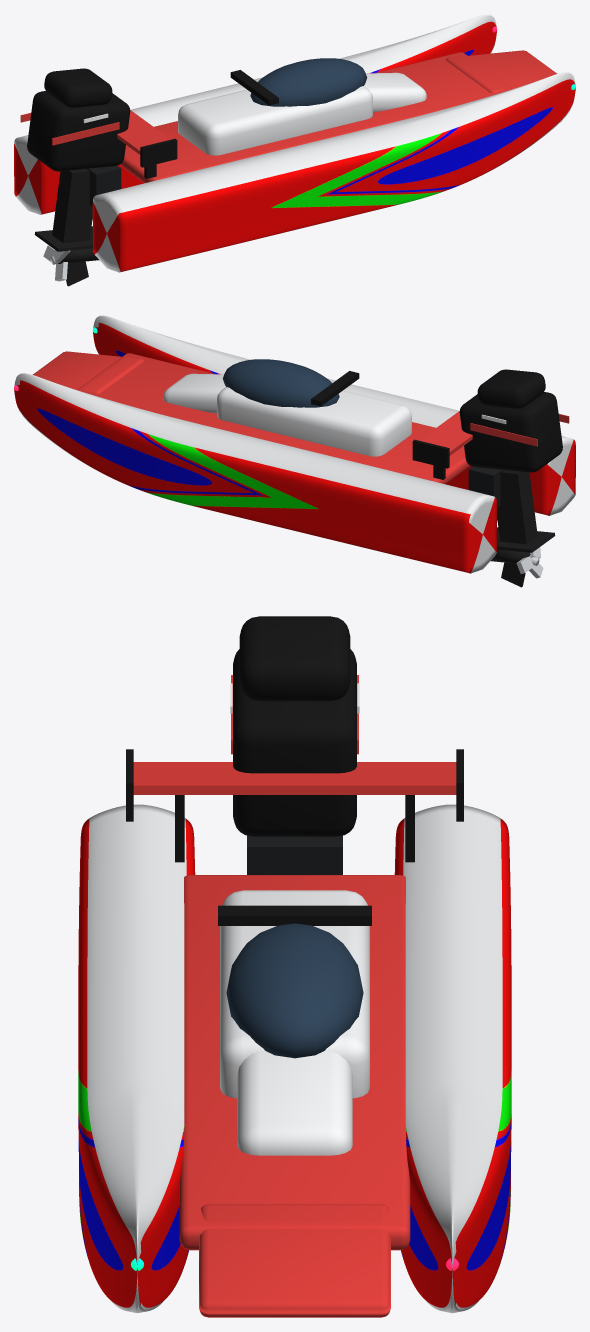
Rendered from Tunnel.glb.
3 renders of one model, top to bottom at view 1: azimuth 30°, elevation 25°; view 2: azimuth 150°, elevation 25°; view 3: azimuth 270°, elevation 25°, orthographic. The views are drawn at different scales.
Visible parts, largest first — view 1: Tunnel; view 2: Tunnel; view 3: Tunnel.
Part boxes in pixels (box(x1,y1,x2,y2)): Tunnel: box(14, 14, 575, 286); Tunnel: box(14, 315, 575, 587); Tunnel: box(78, 616, 511, 1317).
Bounding box in the file's own units: 6.17 × 2.39 × 2.26.
14 materials, 1 textured.
